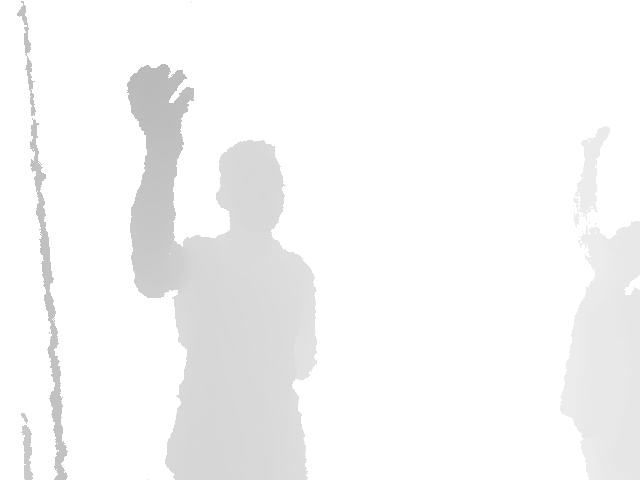hand: (126, 64, 196, 152), (580, 126, 612, 157)
head: (215, 139, 285, 232), (606, 220, 640, 272)
person: (126, 63, 319, 479), (558, 126, 640, 480)
